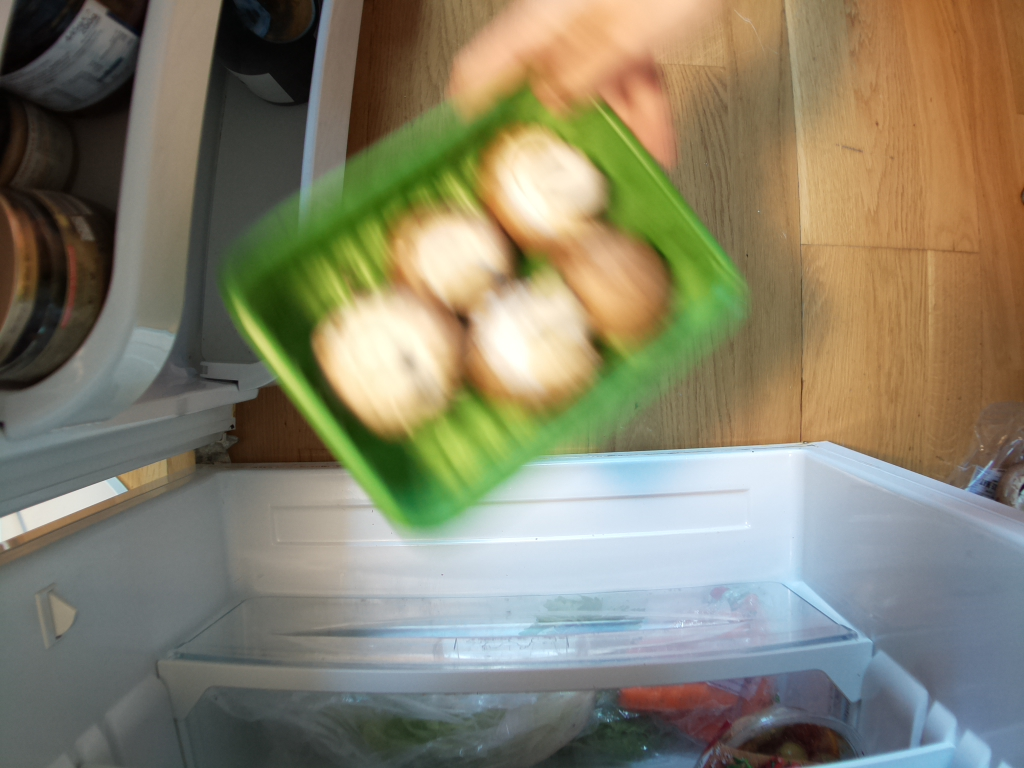mushrooms: (227, 58, 745, 544)
